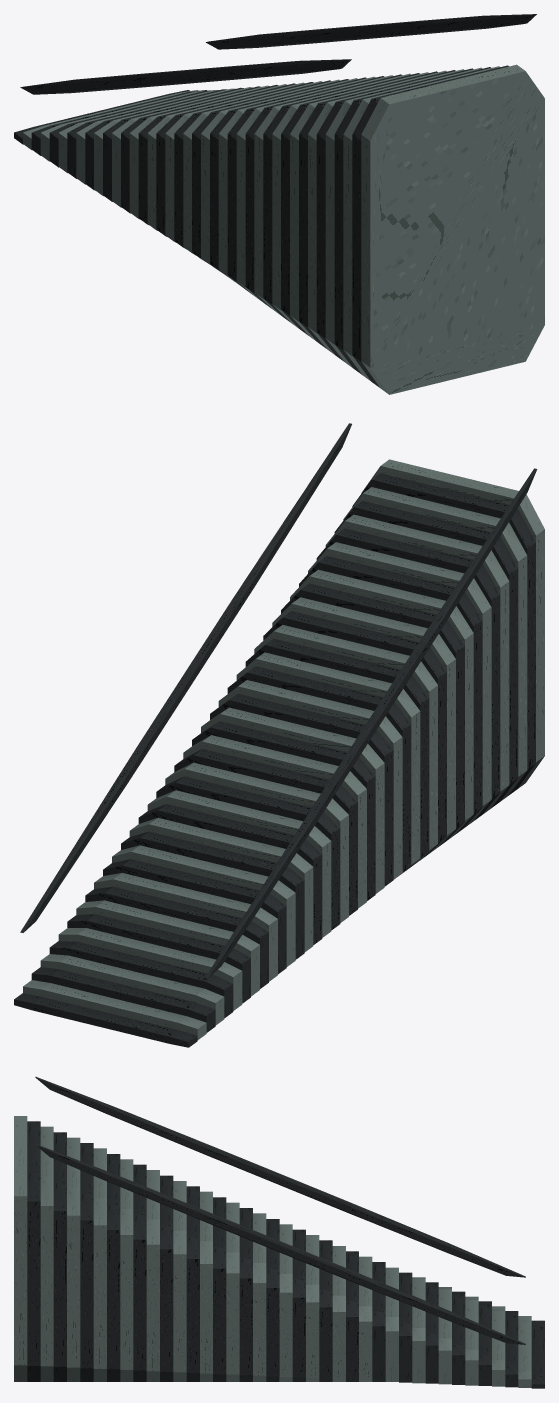
File: escalator.glb
The picture shows the model from 3 angles, top to bottom: view 1: azimuth 30°, elevation 25°; view 2: azimuth 150°, elevation 25°; view 3: azimuth 270°, elevation 25°; orthographic projection. The views are drawn at different scales.
Visible parts, largest first — view 1: tread39, handrail-1, handrail1, tread38, tread37, tread36, tread35, tread34, tread33, tread32, tread31, tread28 (+29 smaller); view 2: handrail-1, handrail1, tread37, tread36, tread39, tread35, tread38, tread34, tread33, tread32, tread31, tread30 (+30 smaller); view 3: handrail1, handrail-1, tread39, tread38, tread37, tread36, tread35, tread34, tread33, tread32, tread31, tread30 (+30 smaller).
Part boxes in pixels (x1=…): tread39: x1=361, y1=64, x2=544, y2=394; handrail-1: x1=20, y1=59, x2=351, y2=94; handrail1: x1=206, y1=14, x2=536, y2=49; tread38: x1=352, y1=65, x2=508, y2=387; tread37: x1=343, y1=66, x2=499, y2=381; tread36: x1=334, y1=67, x2=490, y2=374; tread35: x1=325, y1=67, x2=481, y2=367; tread34: x1=316, y1=68, x2=473, y2=361; tread33: x1=308, y1=69, x2=464, y2=355; tread32: x1=299, y1=70, x2=455, y2=348; tread31: x1=290, y1=70, x2=446, y2=342; tread28: x1=263, y1=73, x2=419, y2=322; handrail-1: x1=205, y1=468, x2=537, y2=978; handrail1: x1=20, y1=423, x2=351, y2=932; tread37: x1=343, y1=487, x2=527, y2=801; tread36: x1=334, y1=501, x2=518, y2=808; tread39: x1=361, y1=459, x2=544, y2=789; tread35: x1=325, y1=514, x2=509, y2=815; tread38: x1=352, y1=473, x2=535, y2=795; tread34: x1=316, y1=528, x2=500, y2=821; tread33: x1=308, y1=542, x2=491, y2=827; tread32: x1=299, y1=556, x2=482, y2=834; tread31: x1=290, y1=569, x2=473, y2=840; tread30: x1=281, y1=583, x2=464, y2=846; handrail1: x1=35, y1=1144, x2=525, y2=1344; handrail-1: x1=35, y1=1076, x2=525, y2=1277; tread39: x1=14, y1=1116, x2=27, y2=1381; tread38: x1=27, y1=1121, x2=40, y2=1381; tread37: x1=40, y1=1126, x2=53, y2=1381; tread36: x1=53, y1=1132, x2=66, y2=1381; tread35: x1=67, y1=1137, x2=80, y2=1381; tread34: x1=80, y1=1143, x2=93, y2=1381; tread33: x1=93, y1=1148, x2=106, y2=1381; tread32: x1=107, y1=1154, x2=120, y2=1381; tread31: x1=120, y1=1159, x2=133, y2=1381; tread30: x1=133, y1=1164, x2=146, y2=1381.
Bounding box in the file's own units: 3.75 × 6.15 × 12.
1 material, 1 textured.
